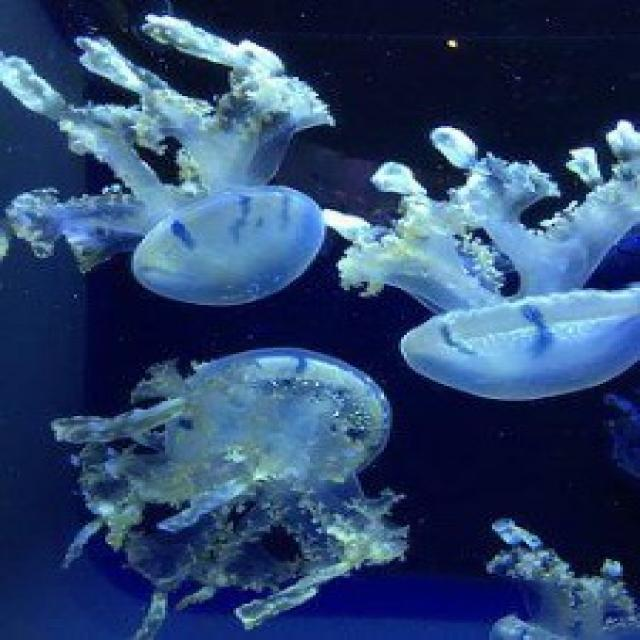Jellyfish: (44, 358, 410, 640), (0, 0, 338, 295), (372, 142, 640, 401), (467, 520, 640, 640)
